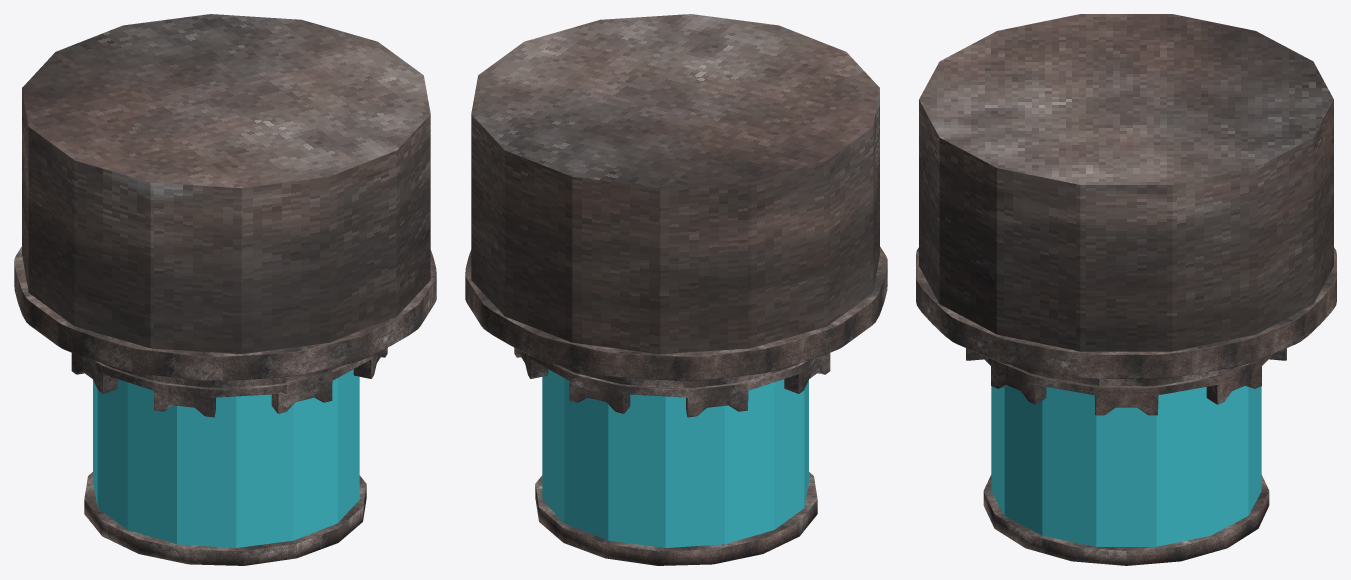
File: reactor_v1.glb
3 views of the same model, side by side, from view 1: azimuth 30°, elevation 25°; view 2: azimuth 150°, elevation 25°; view 3: azimuth 270°, elevation 25° (orthographic).
Parts seen in each view (by area): view 1: shiny_metal_panel.001; view 2: shiny_metal_panel.001; view 3: shiny_metal_panel.001.
Part boxes in pixels (x1,y1,x2,y2): shiny_metal_panel.001: (14, 14, 436, 565); shiny_metal_panel.001: (465, 14, 887, 565); shiny_metal_panel.001: (916, 14, 1336, 565).
Size of the model in its own units: 13.1 by 13.96 by 13.1.
Materials: 5 (4 with a texture image).
